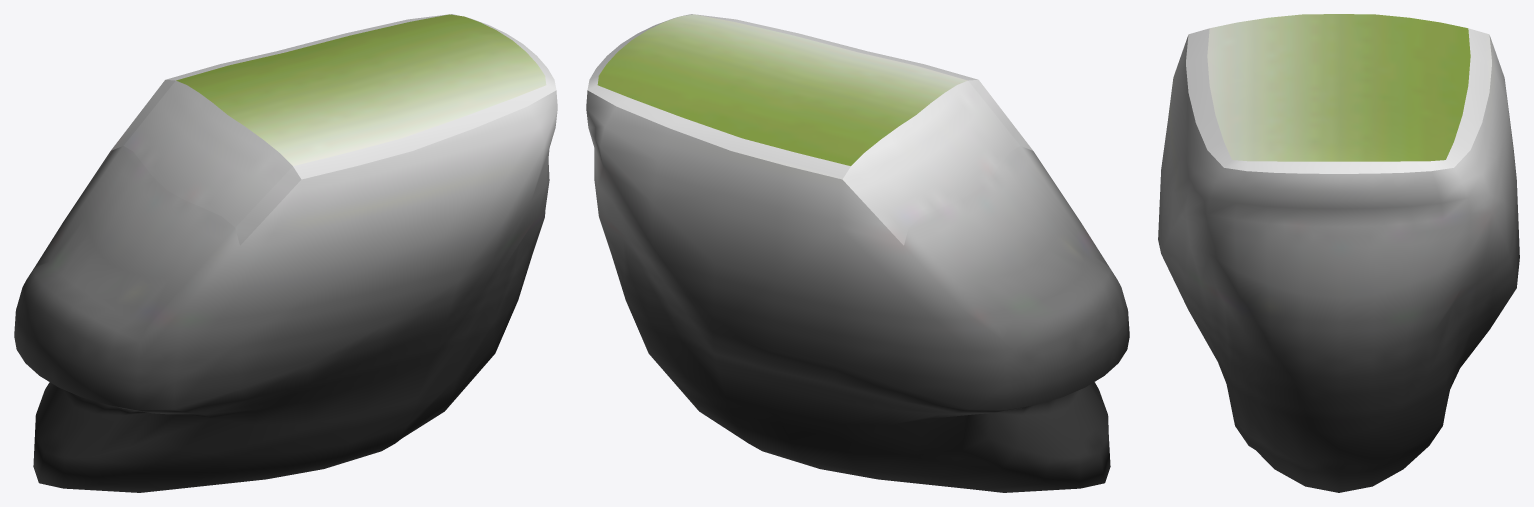
Rendered from M_TerrainBlock_04.fbx.
3 renders of one model, left to right at view 1: azimuth 30°, elevation 25°; view 2: azimuth 150°, elevation 25°; view 3: azimuth 270°, elevation 25°, orthographic. The views are drawn at different scales.
Visible parts, largest first — view 1: M_TerrainBlock_04; view 2: M_TerrainBlock_04; view 3: M_TerrainBlock_04.
Boxes of the visible parts, x1,y1,x2,y2 form: M_TerrainBlock_04: [14, 14, 557, 492]; M_TerrainBlock_04: [586, 14, 1129, 492]; M_TerrainBlock_04: [1158, 14, 1519, 492].
Bounding box in the file's own units: 4042 × 2916 × 2351.
Materials: 1 (1 with a texture image).
